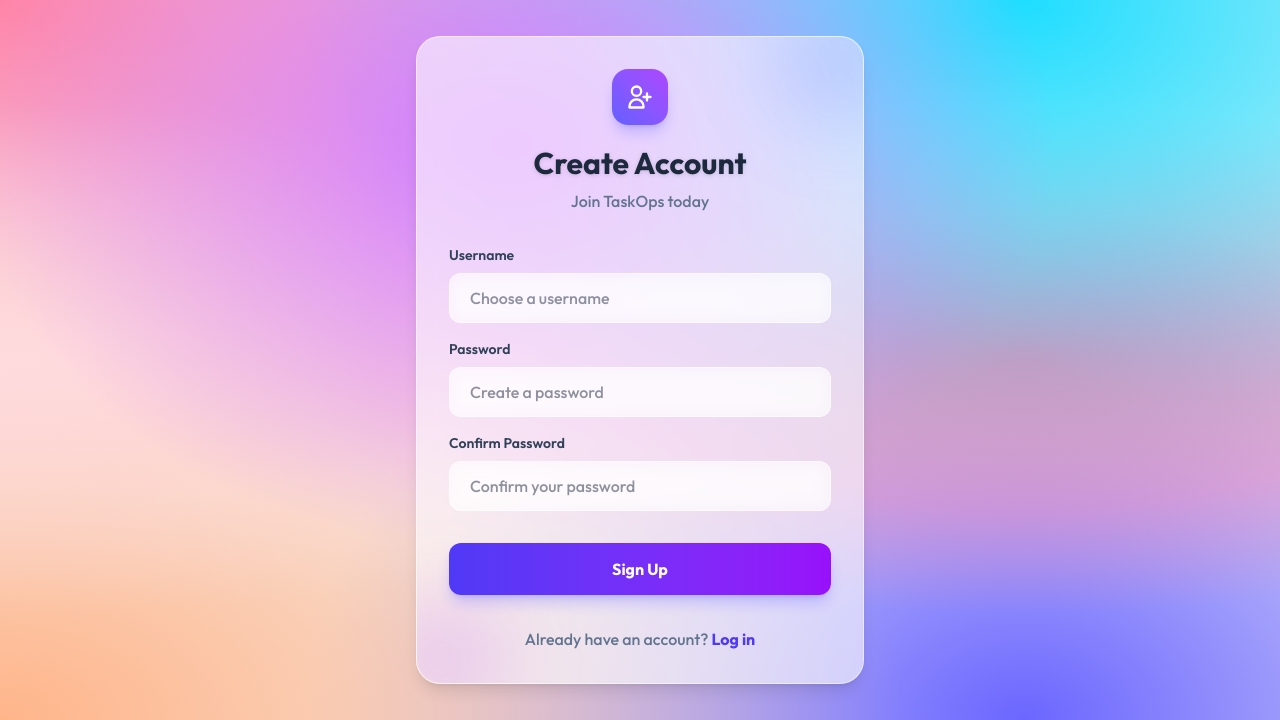
Registration Flow › should show error when passwords do not match
Type "newuser" into the field with placeholder "Choose a username" at (640, 298), box [449,273,831,323]
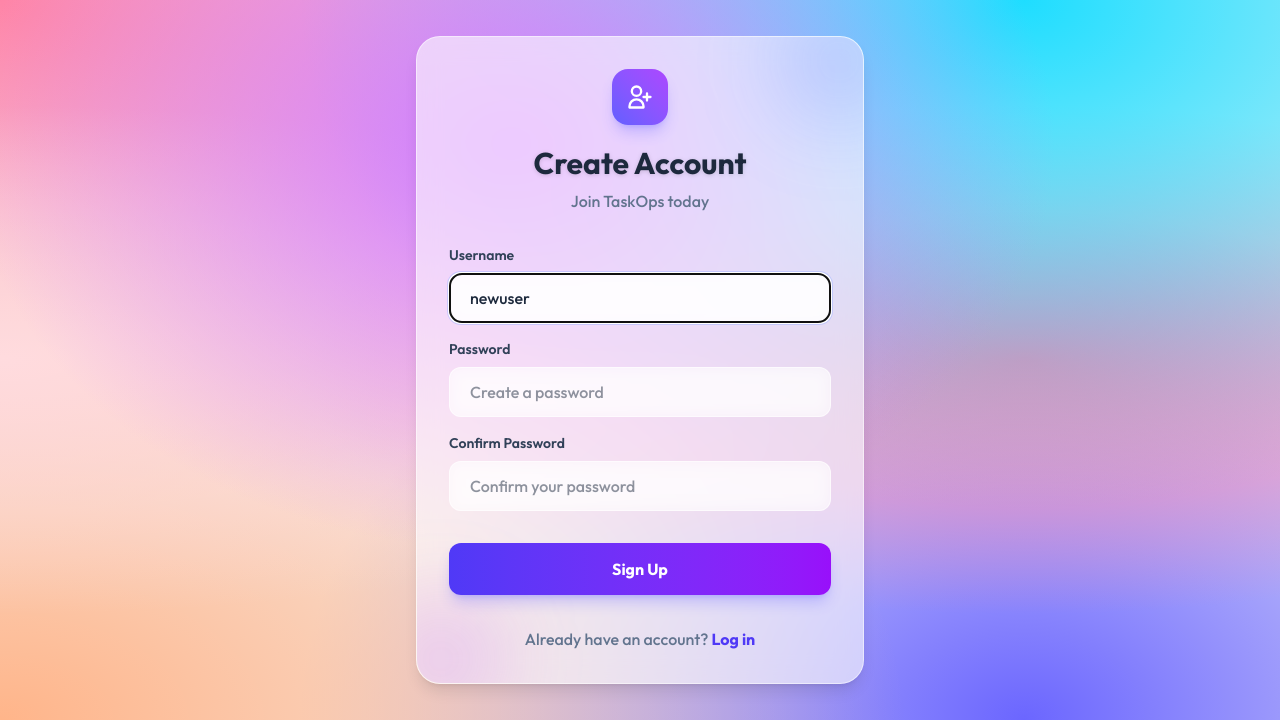
Type "password123" into the password field with placeholder "Create a password" at (640, 392), box [449,367,831,417]
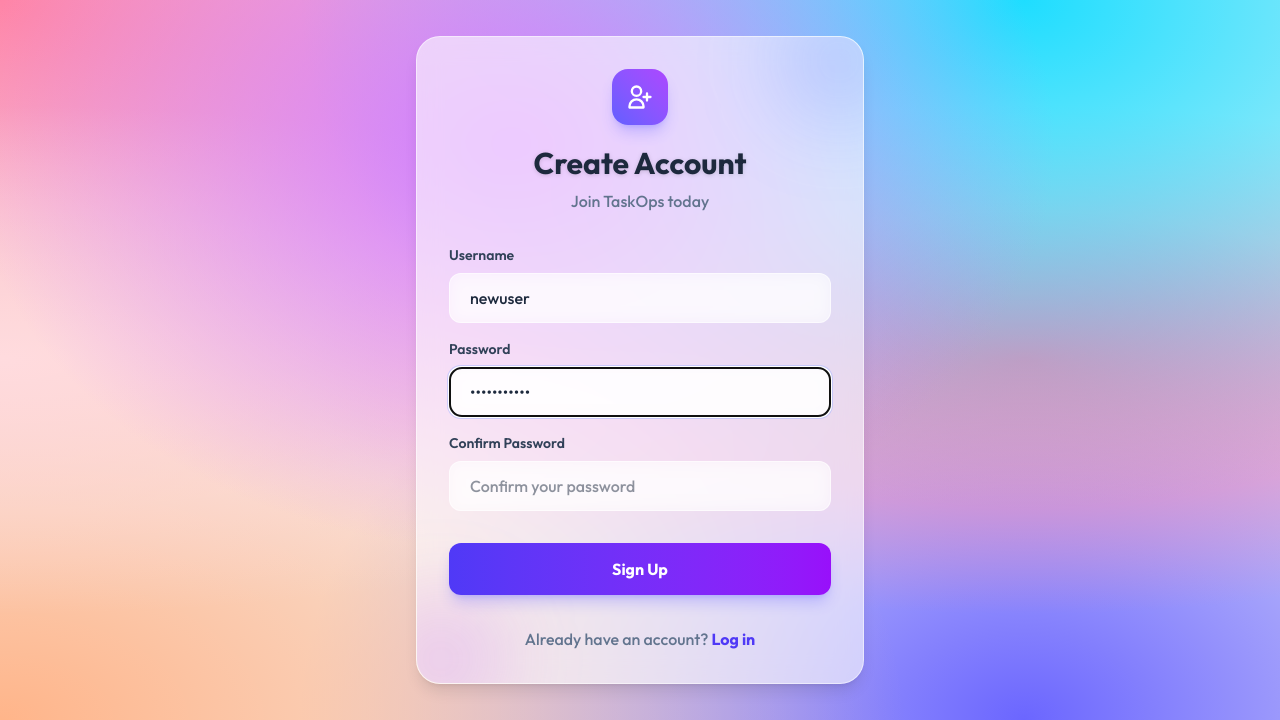
Type "password456" into the password field with placeholder "Confirm your password" at (640, 486), box [449,461,831,511]
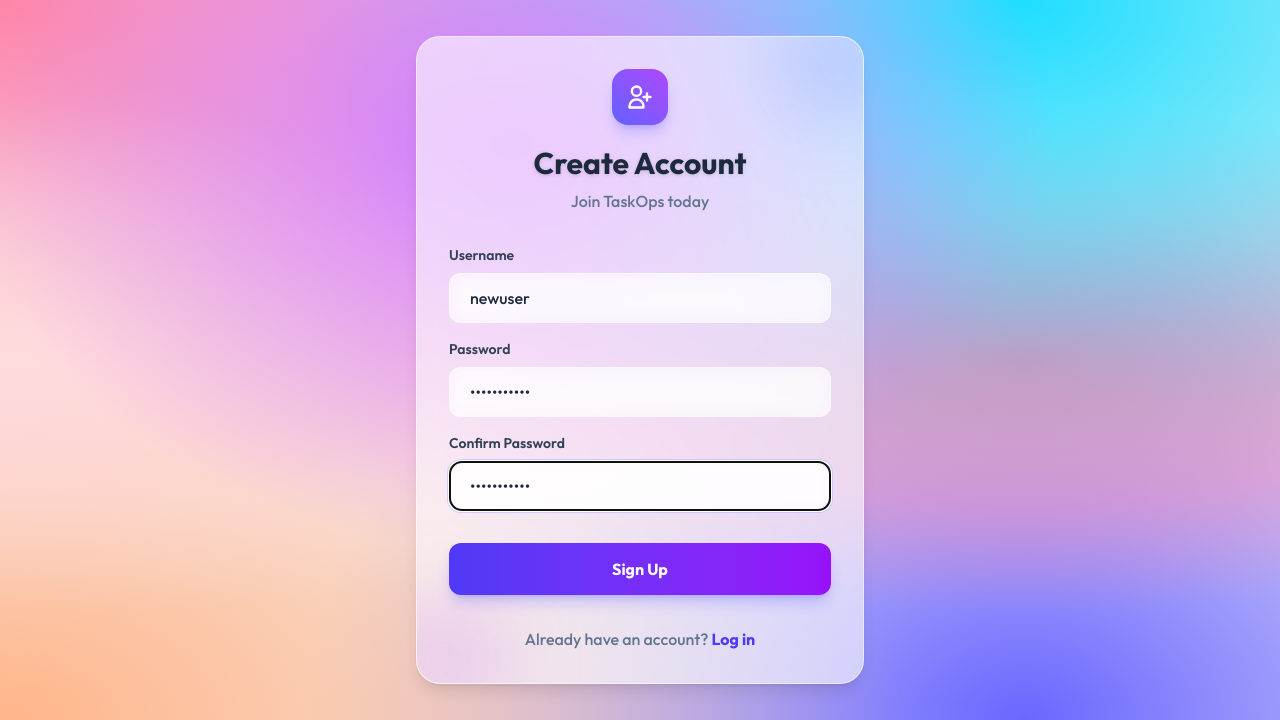
Click the submit button at (640, 569), box [449,543,831,595]
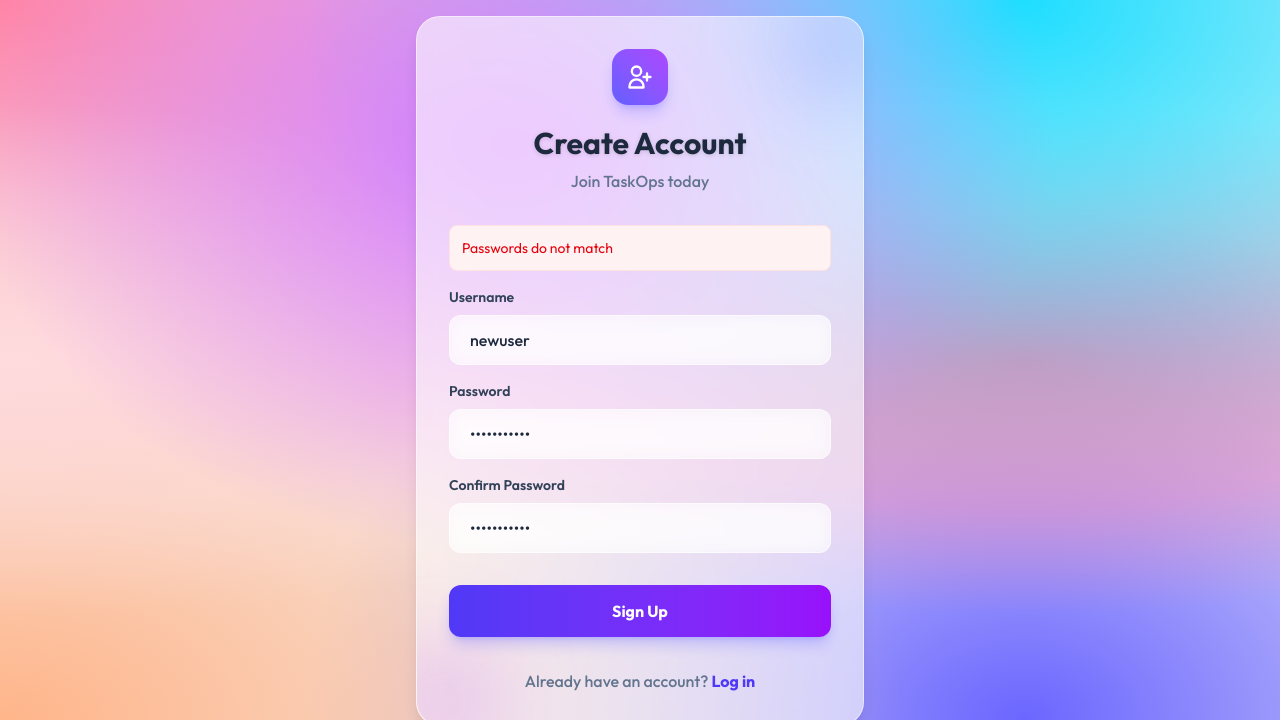
Now the text "Passwords do not match" is shown, box [449,225,831,271]
